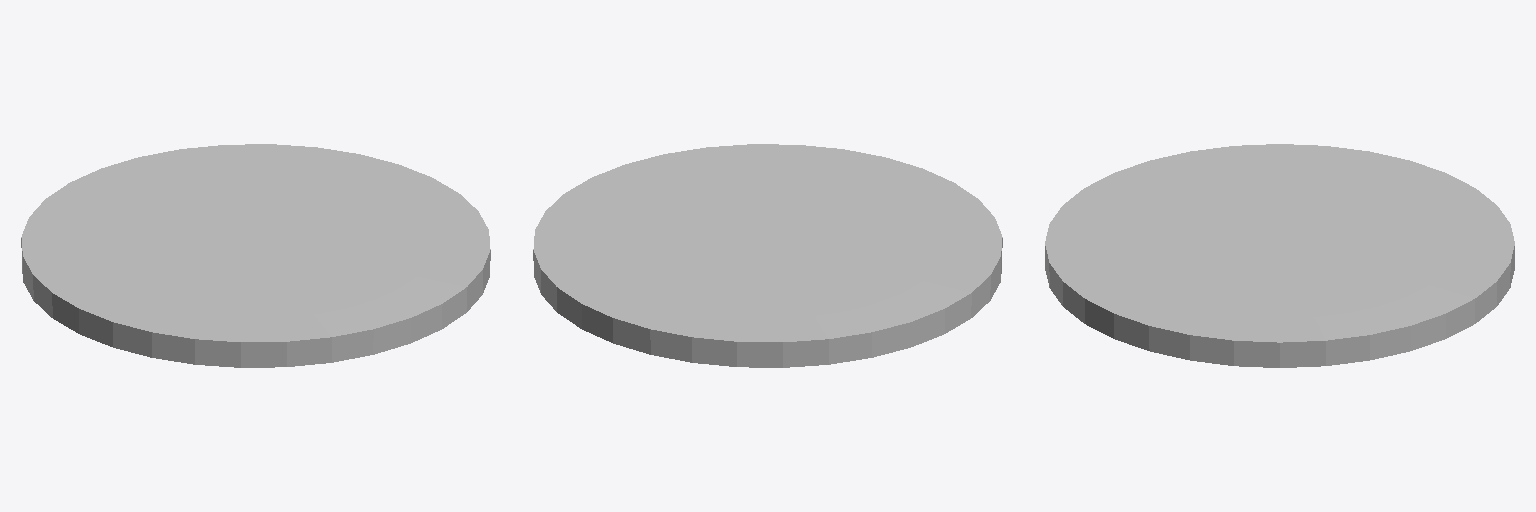
Rendered from vinyl.obj.
3 renders of one model, left to right at view 1: azimuth 30°, elevation 25°; view 2: azimuth 150°, elevation 25°; view 3: azimuth 270°, elevation 25°, orthographic.
Visible parts, largest first — view 1: Circle; view 2: Circle; view 3: Circle.
Boxes of the visible parts, box(x1,y1,x2,y2) form: Circle: box(21, 144, 490, 367); Circle: box(533, 144, 1002, 367); Circle: box(1045, 144, 1514, 367).
Size of the model in its own units: 2.6 by 0.1577 by 2.6.